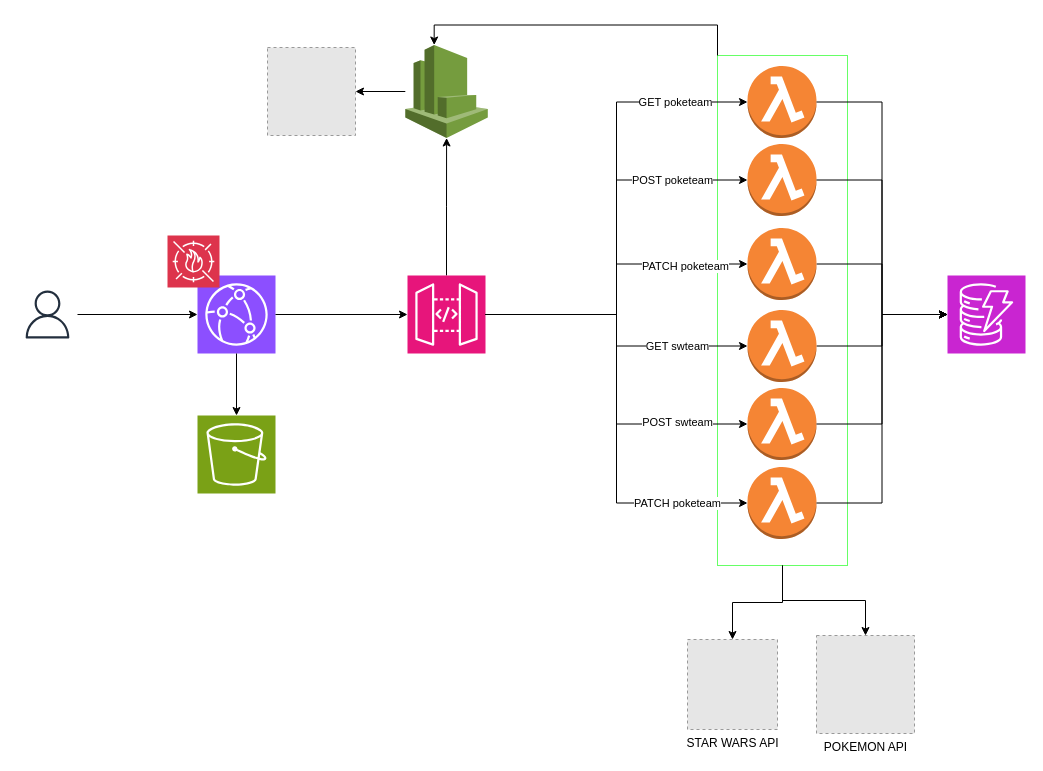
The diagram is 1043 pixels wide and 771 high, and some of its shapes have lost their labels. Grey dashed boxes stand in for pictures. The shapes that lost their labels are listed below. From the top down, each one's centre as x and y in pixels, then its label:
At (x=47, y=314): "User".
At (x=986, y=314): "TEAM DATA".
